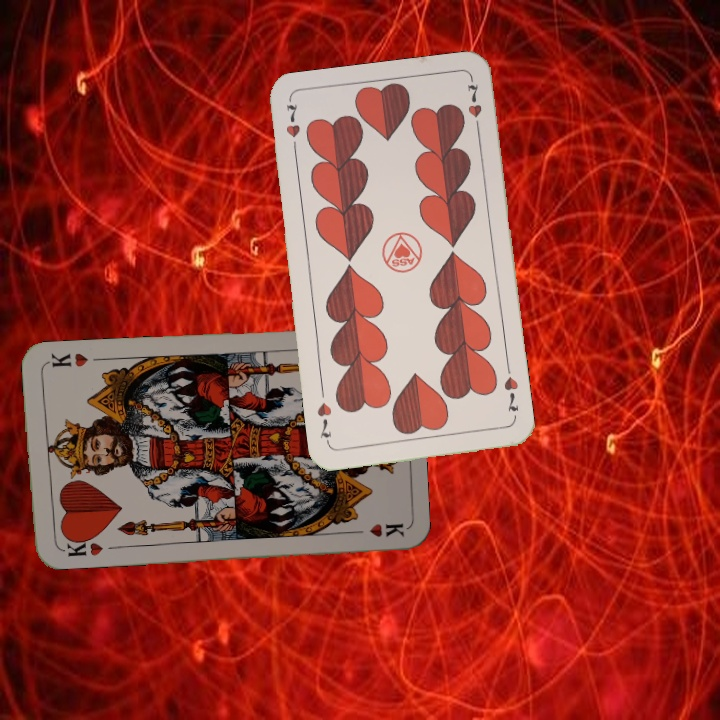H7: (282, 97, 303, 157), (499, 373, 522, 415)
HK: (55, 532, 106, 559)
